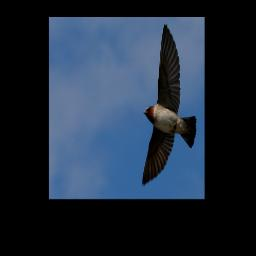Swallow: (142, 23, 197, 186)
